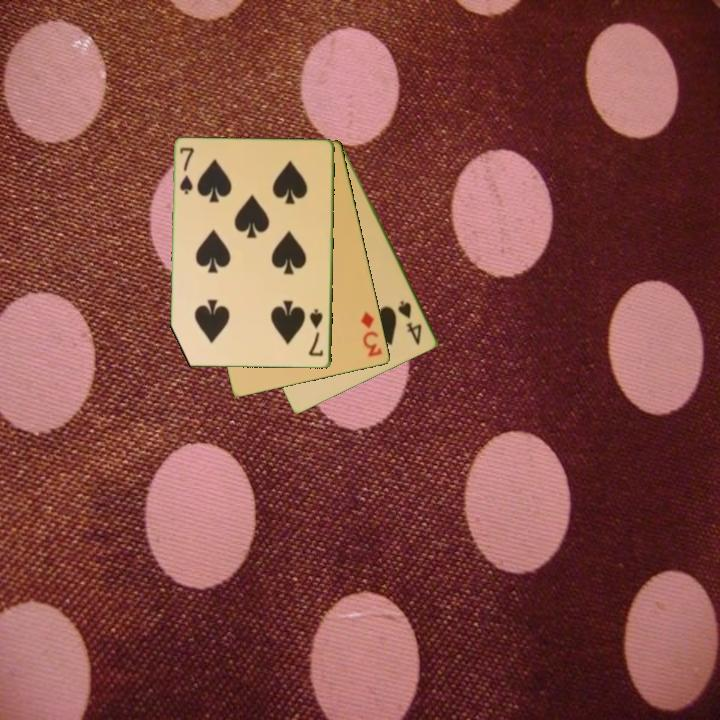3d: (358, 308, 385, 360)
4s: (394, 297, 425, 348)
7s: (177, 144, 197, 198), (306, 306, 326, 359)
